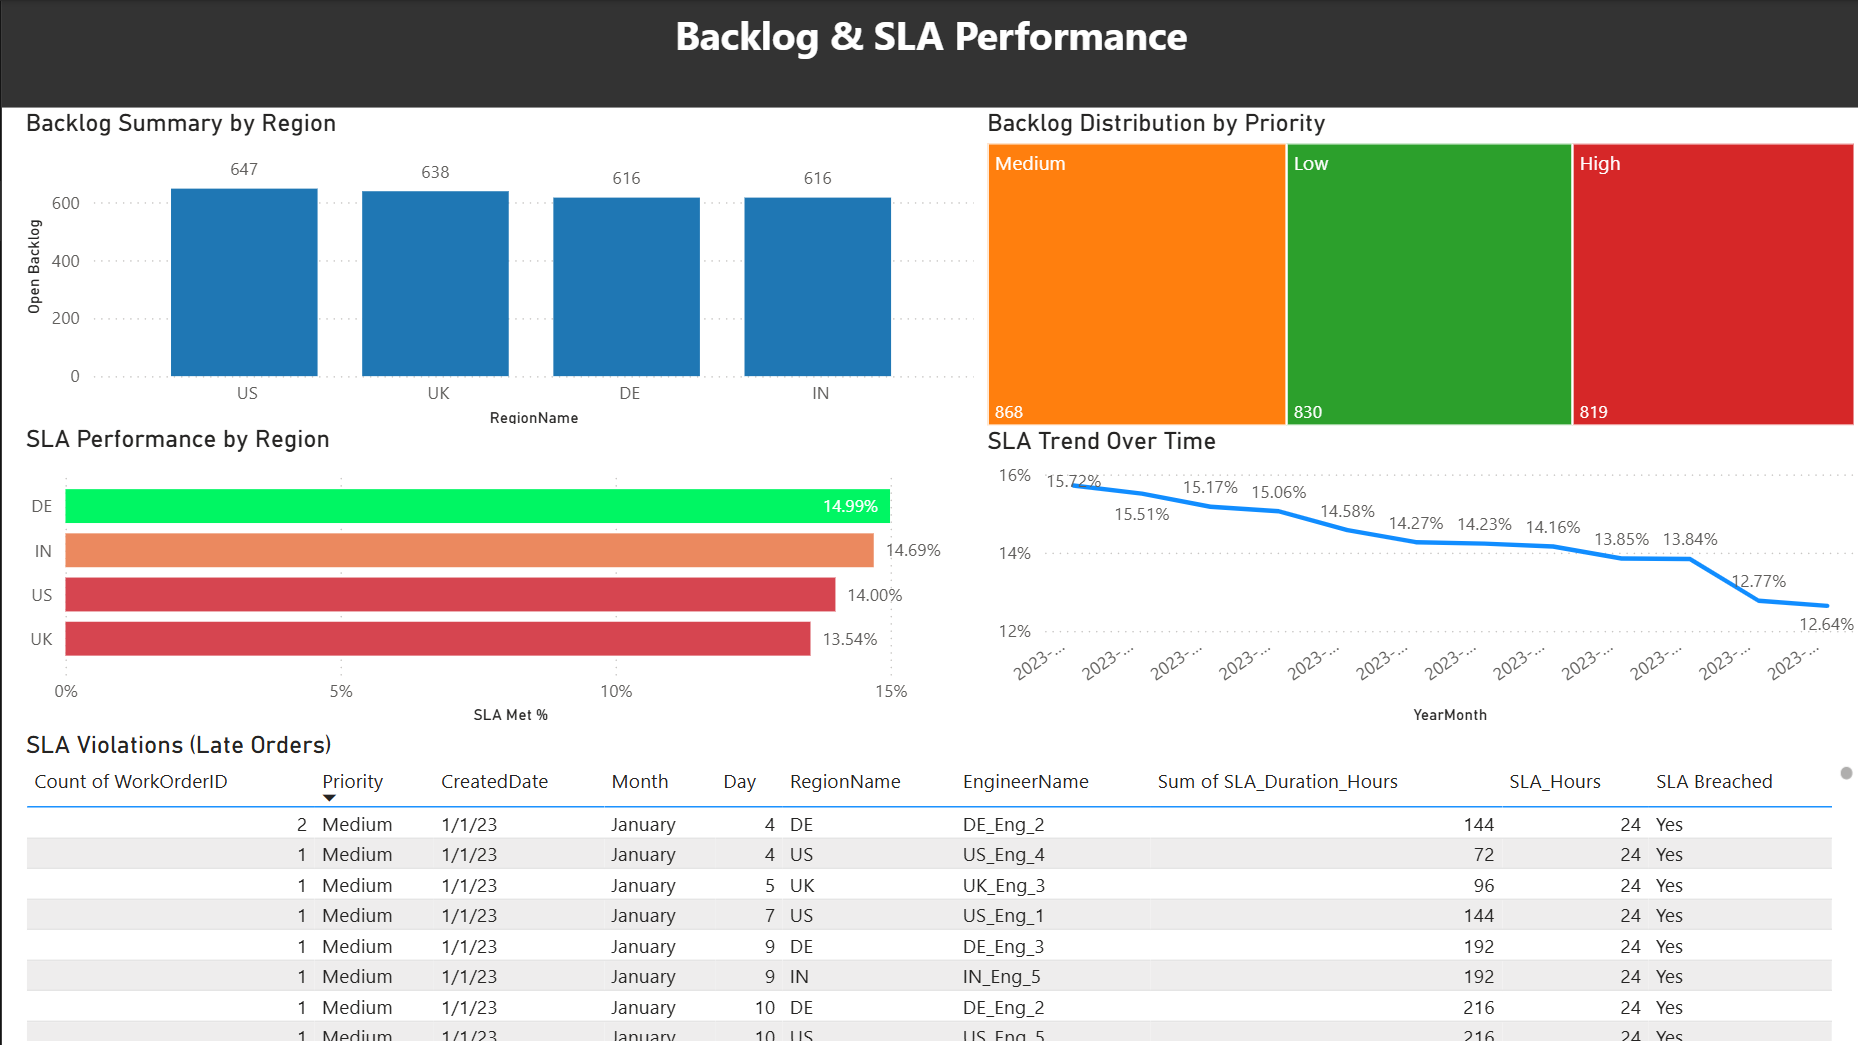

Layout of this report page (visuals, bound fields, positions):
{"tool":"powerbi","page":{"name":"Backlog & SLA","canvas":[1280,720],"ordinal":1},"visuals":[{"type":"clusteredColumnChart","title":"Backlog Summary by Region","fields":{"Category":["Dim_Regions.RegionName"],"Y":["_Measures (2).Open Backlog"]},"box":[10.9,73.7,662.2,223.5],"z":0},{"type":"treemap","title":"Backlog Distribution by Priority","fields":{"Group":["Fact__WorkOrders.Priority"],"Values":["_Measures (2).Open Backlog"]},"box":[673,73.7,606.6,223.5],"z":1000},{"type":"clusteredBarChart","title":"SLA Performance by Region","fields":{"Category":["Dim_Regions.RegionName"],"Y":["_Measures (2).SLA Met %"]},"box":[10.9,291.2,662.2,210.2],"z":2000},{"type":"lineChart","title":"SLA Trend Over Time","fields":{"Category":["Dim_Date.YearMonth"],"Y":["_Measures (2).SLA Met %"]},"box":[673,292.4,606.6,209],"z":3000},{"type":"tableEx","title":"SLA Violations (Late Orders)","fields":{"Values":["Fact__WorkOrders.WorkOrderID","Fact__WorkOrders.Priority","Fact__WorkOrders.CreatedDate","Fact__WorkOrders.CompletedDate.Variation.Date Hierarchy.Month","Fact__WorkOrders.CompletedDate.Variation.Date Hierarchy.Day","Dim_Regions.RegionName","Dim_Engineers.EngineerName","Fact__WorkOrders.SLA_Duration_Hours","Dim_SLA.SLA_Hours","Fact__WorkOrders.SLA Breached"]},"box":[10.9,501.4,1267.5,218.7],"z":4000},{"type":"textbox","box":[0,0,1279,73.3],"z":5000}]}

Visuals, with their boxes in screenshot pixels (x1, y1, x2, y2), scaled from the page's 1280x720 canvas onto the 1858x1045 screenshot:
"Backlog Summary by Region" clusteredColumnChart: [left=16, top=107, right=977, bottom=431]
"Backlog Distribution by Priority" treemap: [left=977, top=107, right=1857, bottom=431]
"SLA Performance by Region" clusteredBarChart: [left=16, top=423, right=977, bottom=728]
"SLA Trend Over Time" lineChart: [left=977, top=424, right=1857, bottom=728]
"SLA Violations (Late Orders)" tableEx: [left=16, top=728, right=1856, bottom=1044]
textbox: [left=0, top=0, right=1857, bottom=106]
